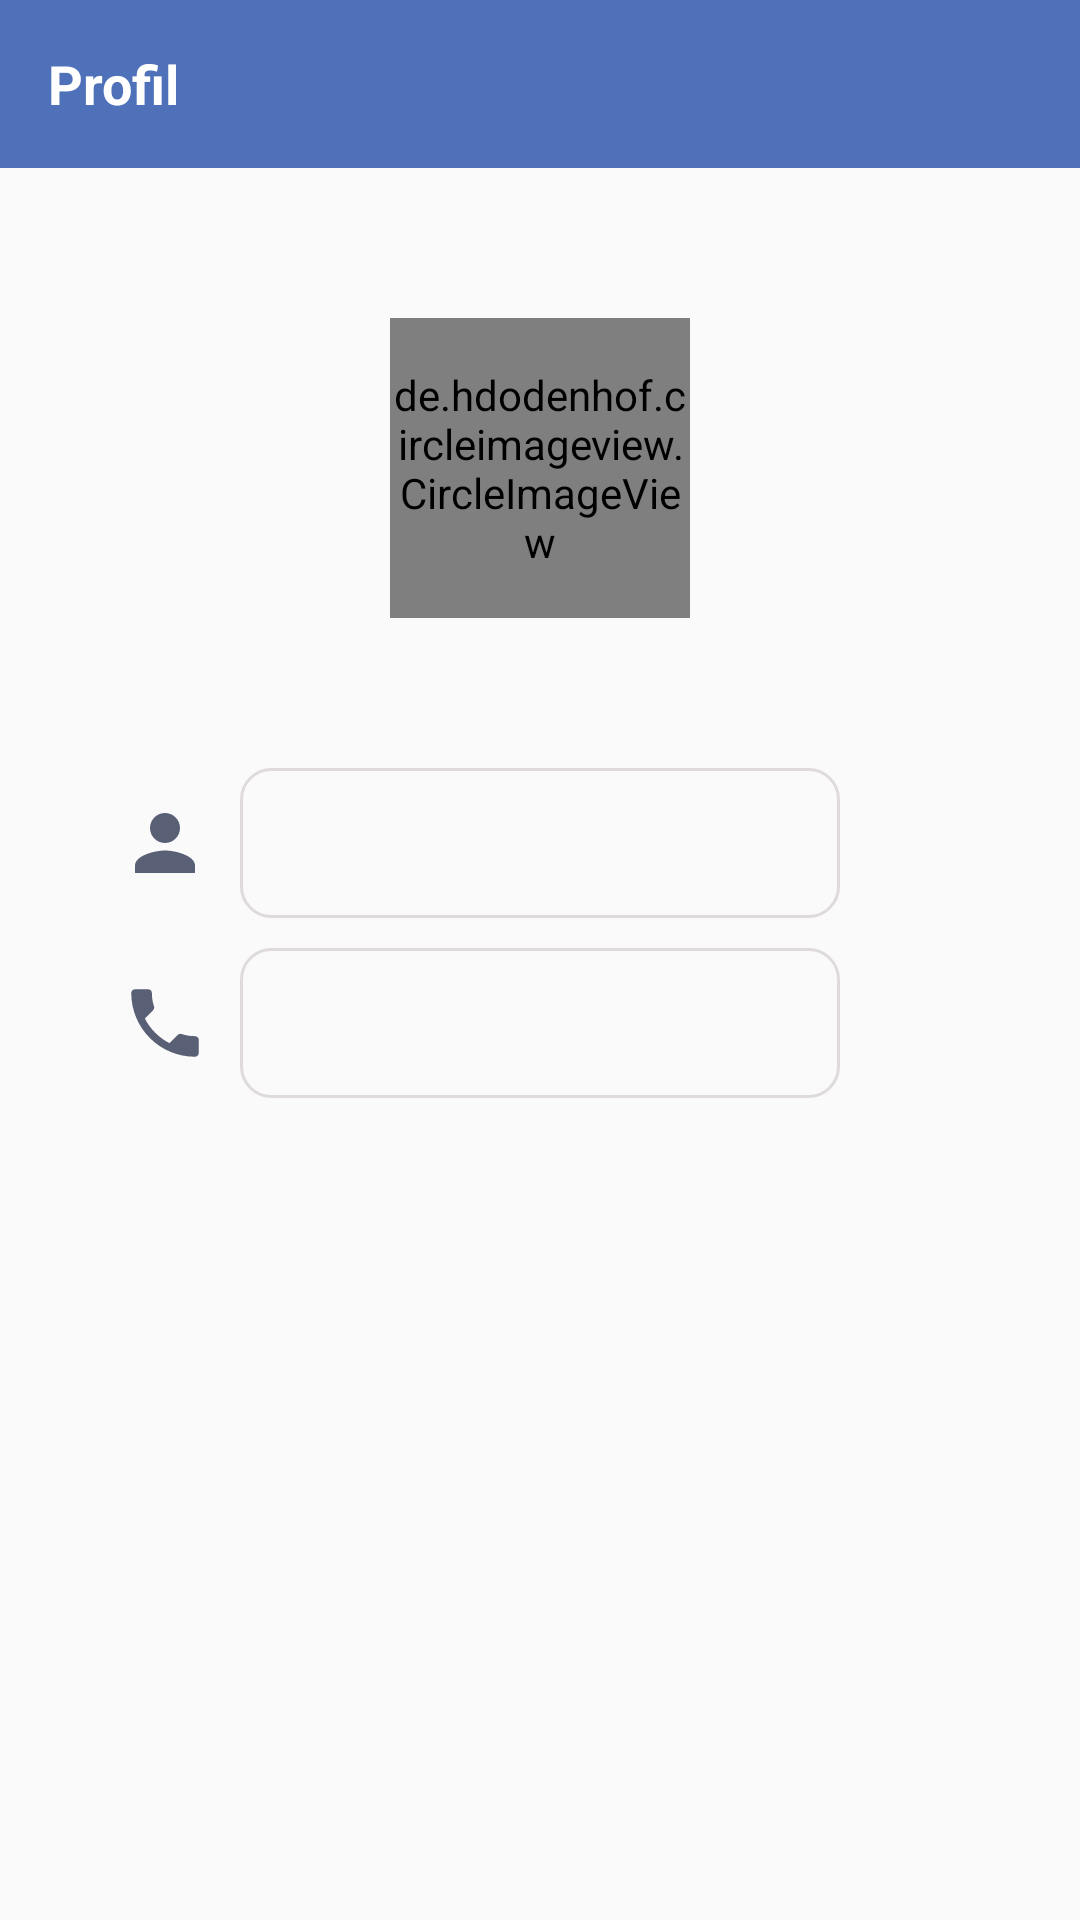

Named icons in this screenshot (1080w x 1920h) and their bounding boxes, (x1, y1, x2, y2):
call: (131, 989, 199, 1057)
person: (135, 813, 195, 873)
